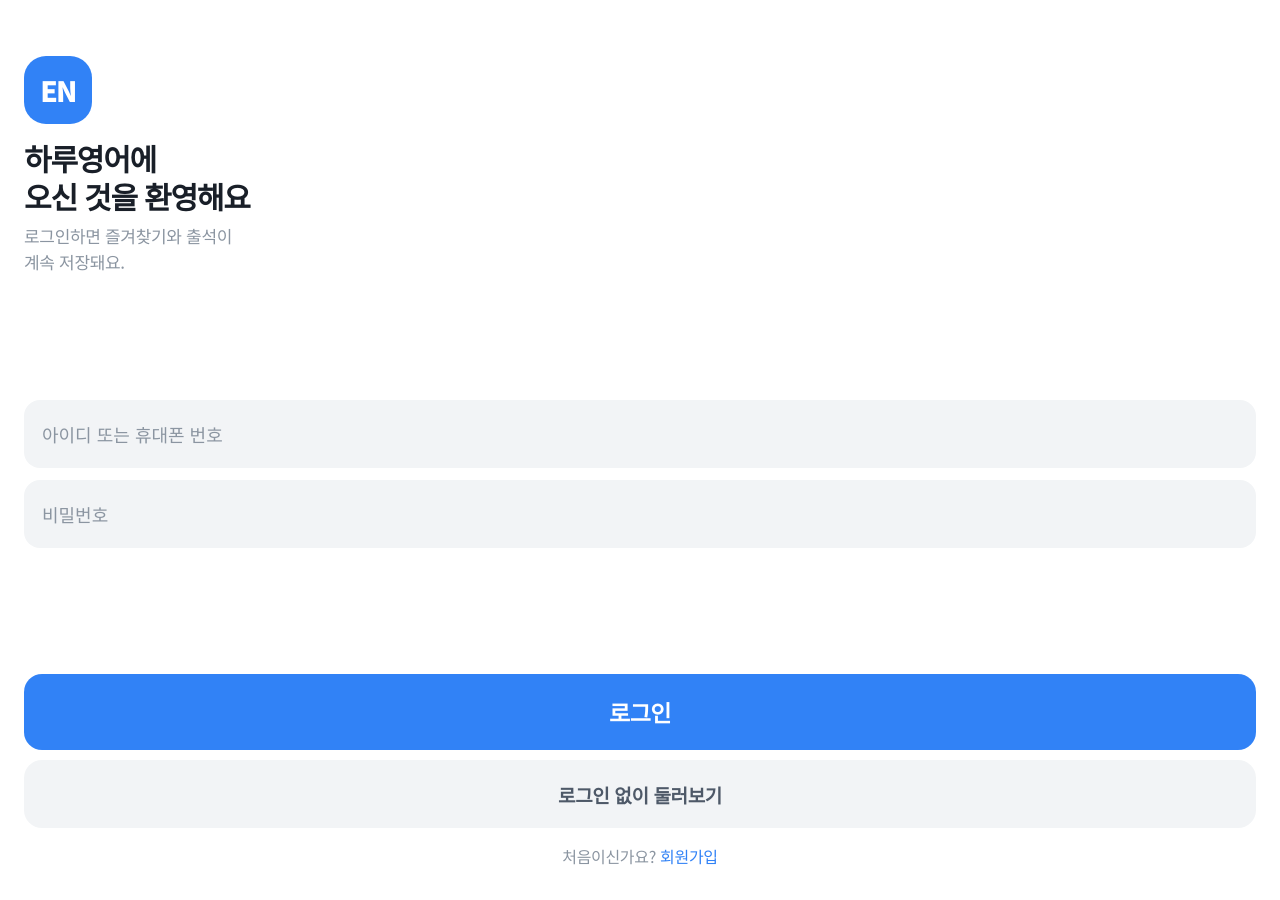
로그인 입력 검증 › 짧은 비밀번호를 막는다
Type "minsu99" into the field labelled "아이디 또는 휴대폰 번호" at coordinates (640, 434), box [24, 400, 1256, 468]
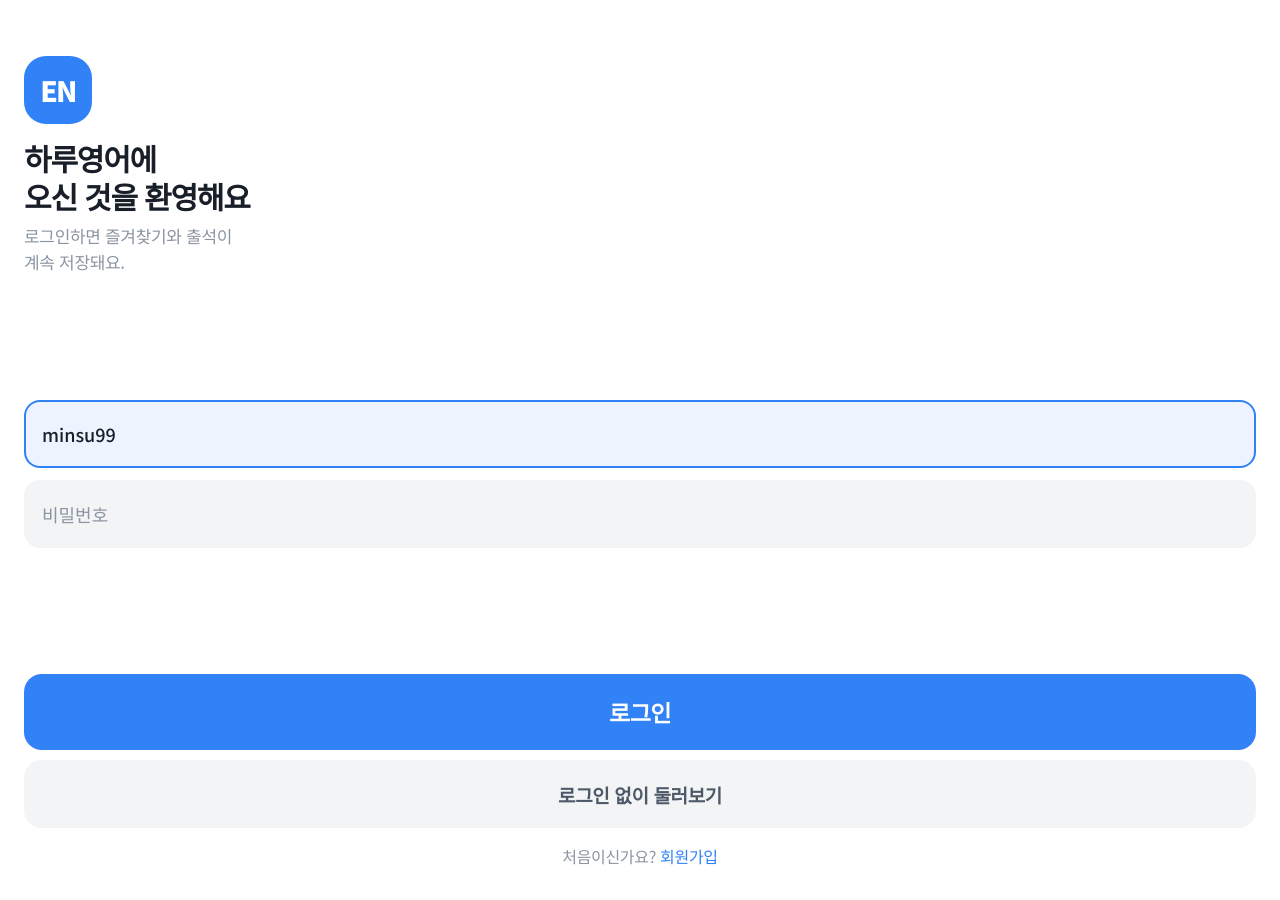
Type "123" into the password field labelled "비밀번호" at coordinates (640, 514), box [24, 480, 1256, 548]
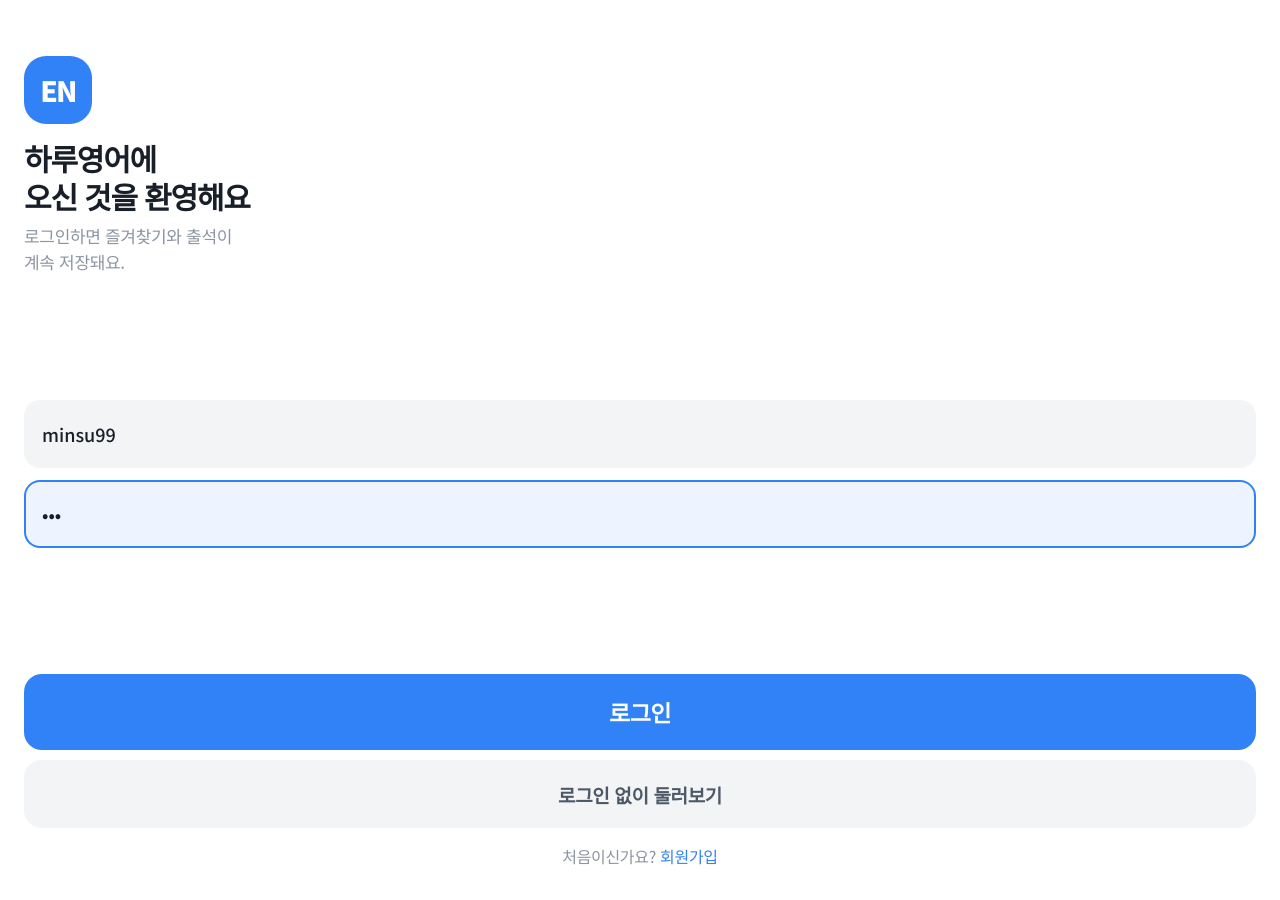
Click the button "로그인" at coordinates (640, 712), box [24, 674, 1256, 750]
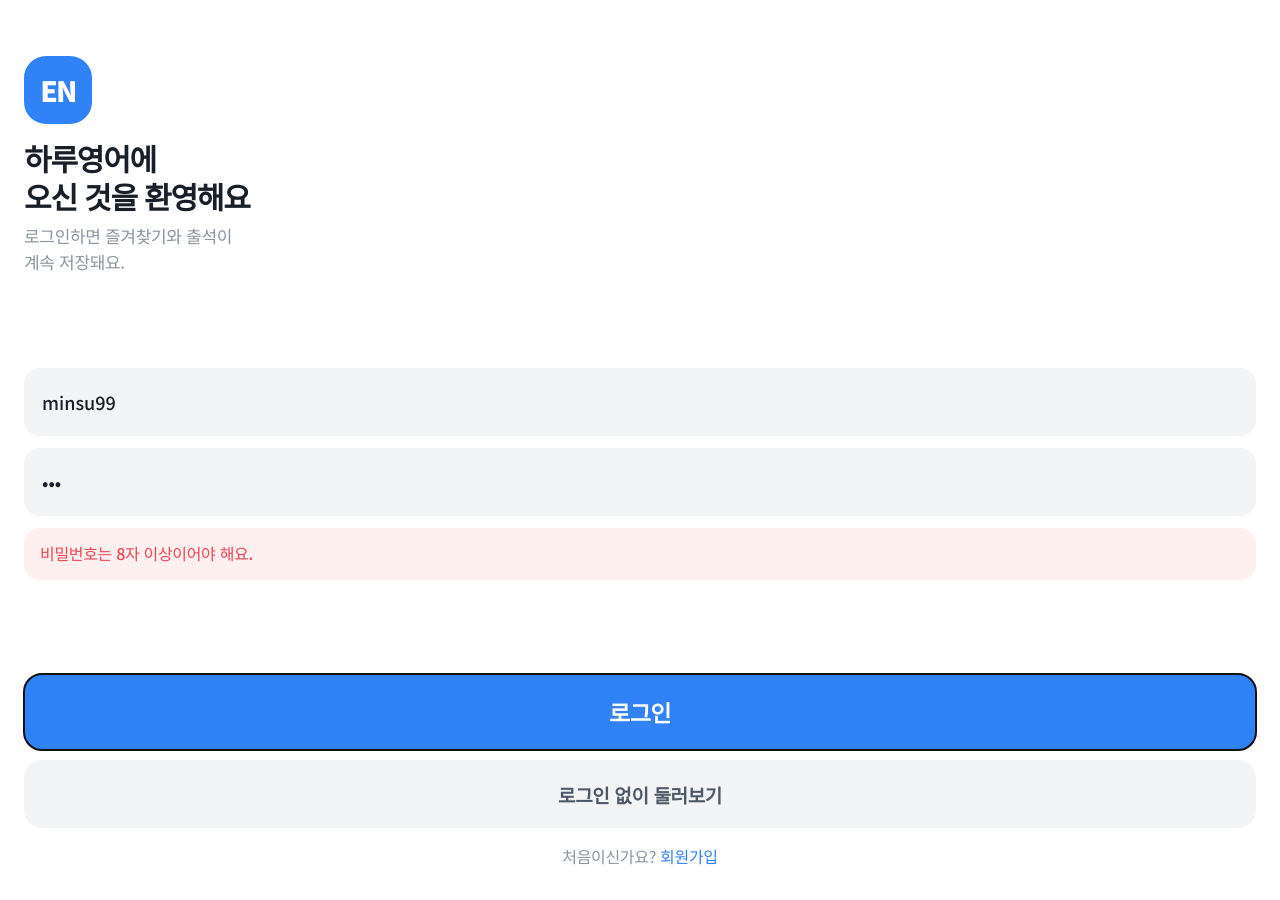
Check: the message reads "비밀번호는 8자 이상이어야 해요.", box [40, 541, 253, 565]
